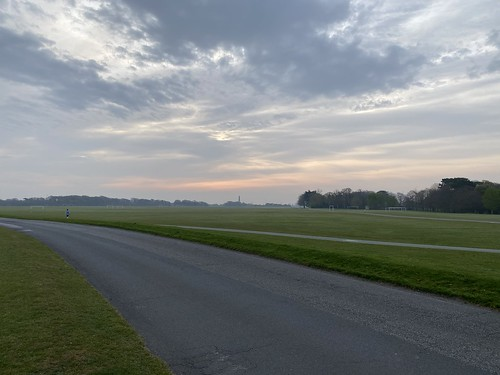sky: (1, 1, 497, 183)
street: (5, 218, 500, 375)
vegetation: (300, 181, 500, 213)
